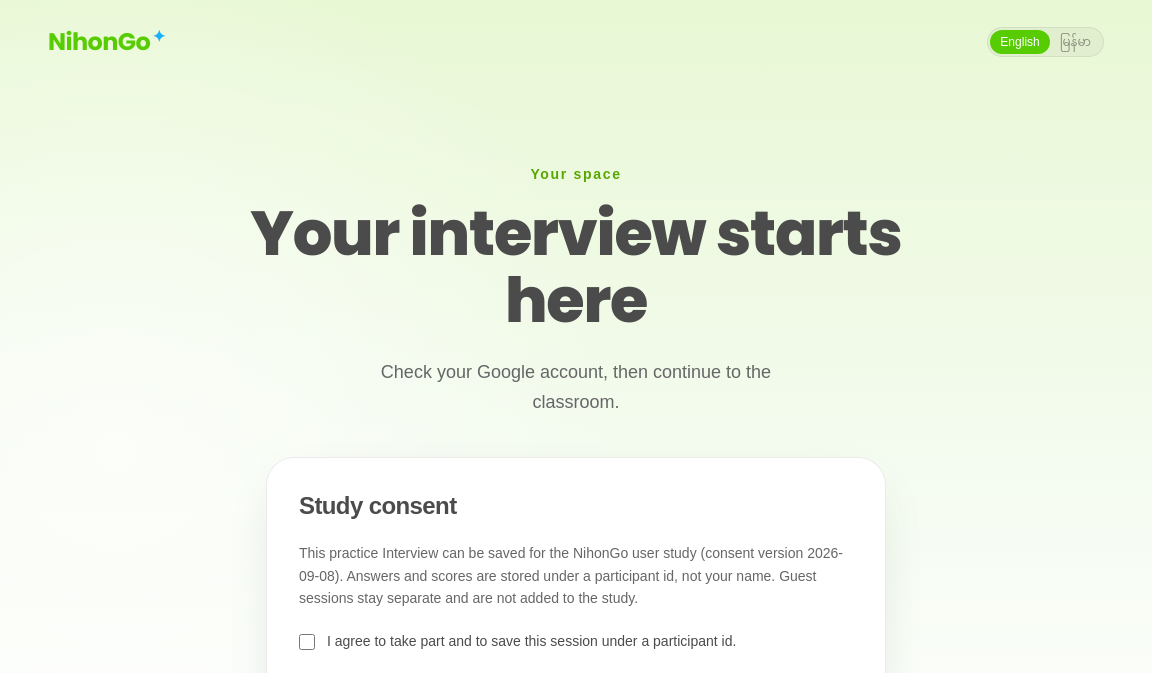
Test: Study consent page › shows the join-link full copy when consent is rejected as join_full
Click the checkbox labelled "I agree to take part and to save this session".
click(307, 642)  # box x1=299 y1=634 x2=315 y2=650
(page scrolled)
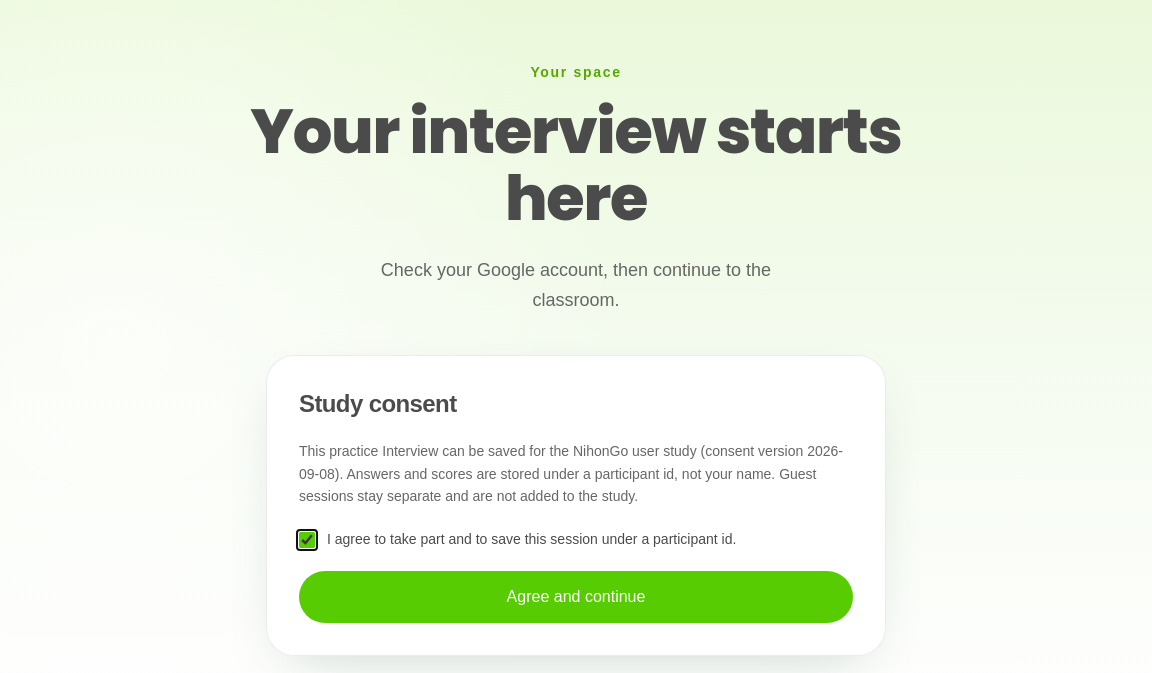
Click the button "Agree and continue".
click(576, 597)  # box x1=299 y1=571 x2=853 y2=623
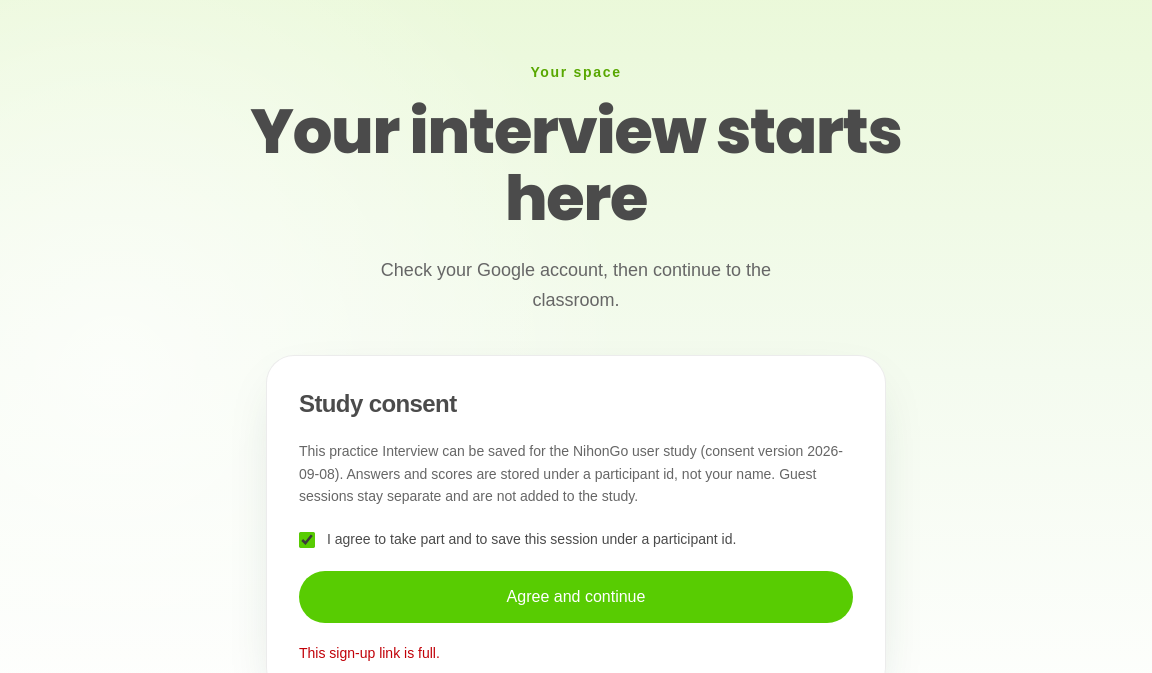
expect the text "This sign-up link is full." is shown: met, box x1=299 y1=645 x2=440 y2=661
